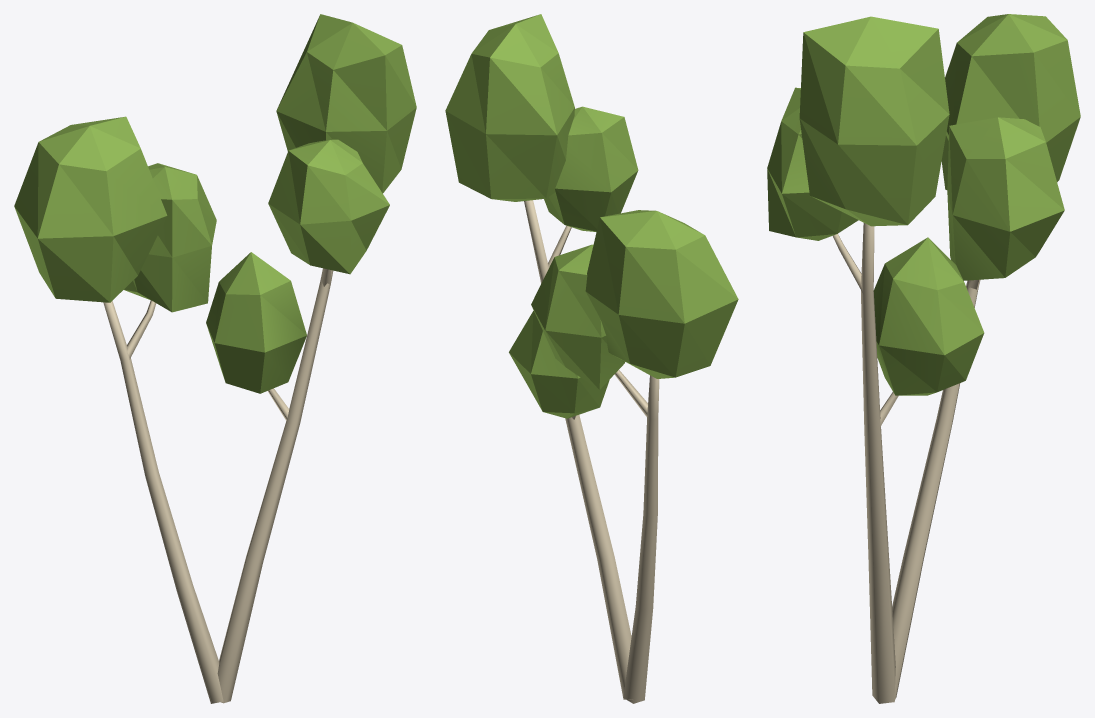
The model's file is birch_2.glb.
3 renders of one model, left to right at view 1: azimuth 30°, elevation 25°; view 2: azimuth 150°, elevation 25°; view 3: azimuth 270°, elevation 25°, orthographic. The views are drawn at different scales.
Visible parts, largest first — view 1: birch_2; view 2: birch_2; view 3: birch_2.
Boxes of the visible parts, <box> form: birch_2: <box>14,14,416,703</box>; birch_2: <box>445,14,738,703</box>; birch_2: <box>767,14,1080,703</box>.
Size of the model in its own units: 3.58 by 6.92 by 2.61.
